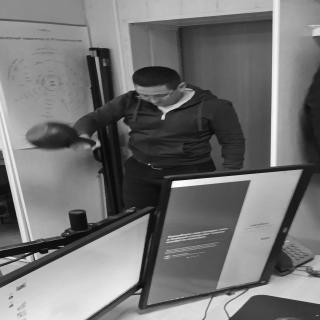kettlebell: (25, 122, 98, 152)
